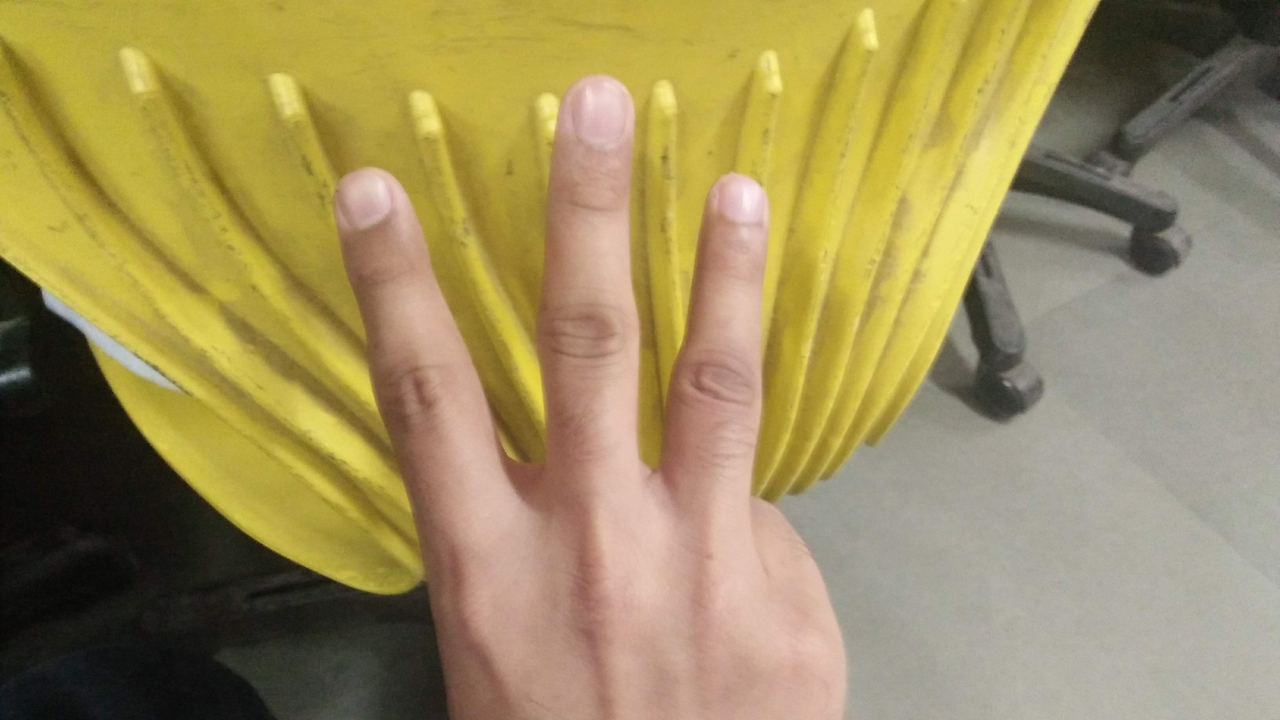fingertip: (324, 162, 408, 240), (548, 76, 640, 146), (698, 166, 772, 240)
